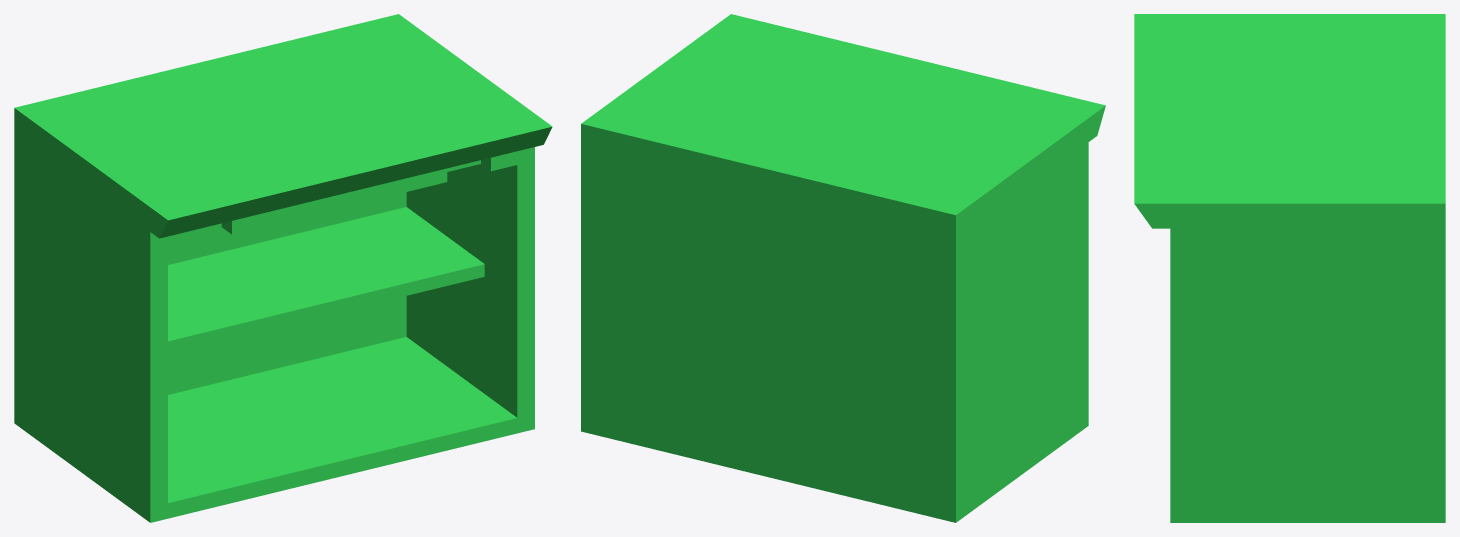
The model's file is High_Cupboard_2.fbx.
The picture shows the model from 3 angles, left to right: view 1: azimuth 30°, elevation 25°; view 2: azimuth 150°, elevation 25°; view 3: azimuth 270°, elevation 25°; orthographic projection. The views are drawn at different scales.
Parts seen in each view (by area): view 1: Cube.129; view 2: Cube.129; view 3: Cube.129.
Boxes of the visible parts, left/top/right/bottom form: Cube.129: left=14, top=14, right=552, bottom=522; Cube.129: left=581, top=14, right=1105, bottom=522; Cube.129: left=1134, top=14, right=1445, bottom=522.
Bounding box in the file's own units: 101 × 78.82 × 69.68.
